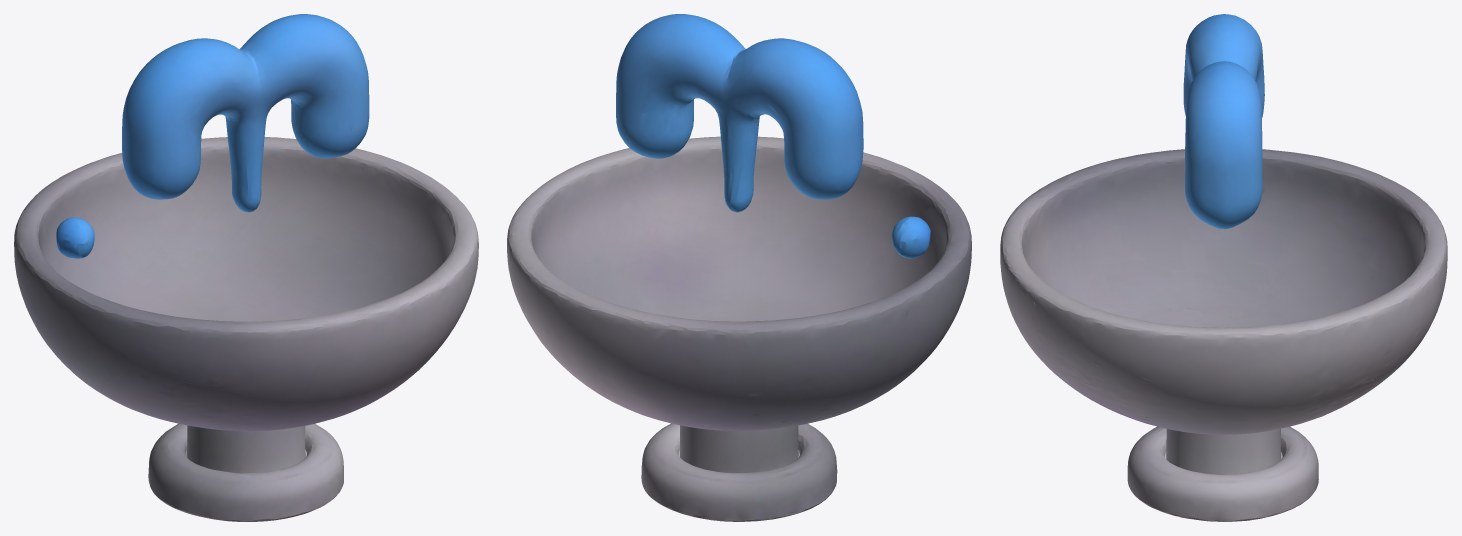
The model's file is fountain.glb.
3 views of the same model, side by side, from view 1: azimuth 30°, elevation 25°; view 2: azimuth 150°, elevation 25°; view 3: azimuth 270°, elevation 25° (orthographic). The views are drawn at different scales.
Parts seen in each view (by area): view 1: model; view 2: model; view 3: model.
Part boxes in pixels (x1,y1,x2,y2): model: (14,14,478,521); model: (507,14,971,521); model: (1000,14,1447,521).
Size of the model in its own units: 0.9221 by 1 by 0.9233.
1 material, 1 textured.
